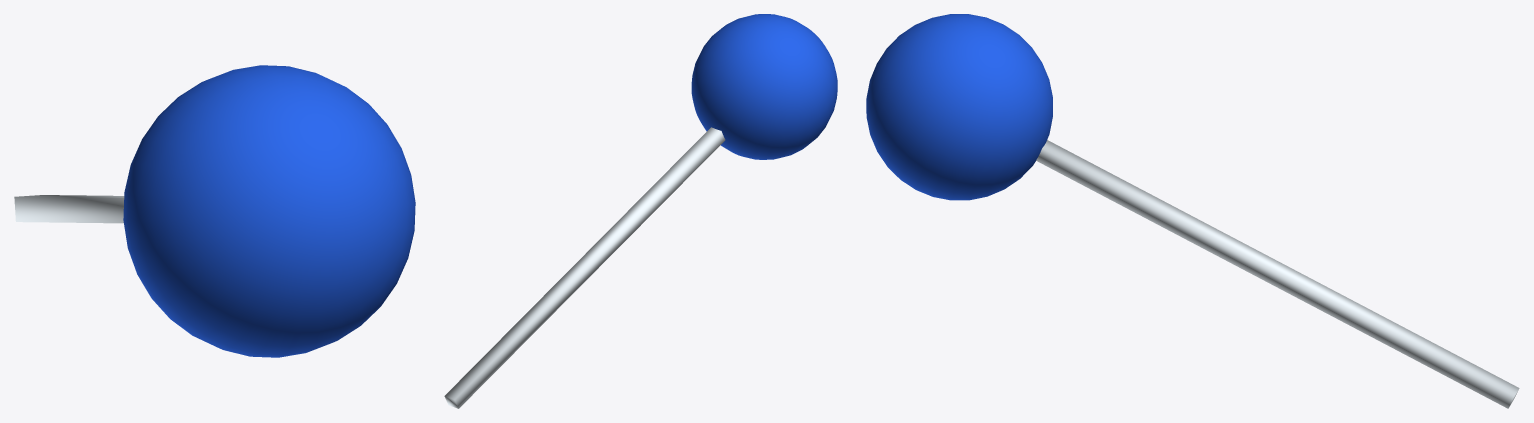
The model's file is pin-two.glb.
The picture shows the model from 3 angles, left to right: view 1: azimuth 30°, elevation 25°; view 2: azimuth 150°, elevation 25°; view 3: azimuth 270°, elevation 25°; orthographic projection. The views are drawn at different scales.
Parts seen in each view (by area): view 1: pin handle 2; view 2: pin handle 2; view 3: pin handle 2.
Boxes of the visible parts, bbox=[...] form: pin handle 2: bbox=[14, 65, 415, 357]; pin handle 2: bbox=[444, 14, 837, 408]; pin handle 2: bbox=[866, 14, 1519, 408].
Bounding box in the file's own units: 0.0633 × 0.0915 × 0.1678.
